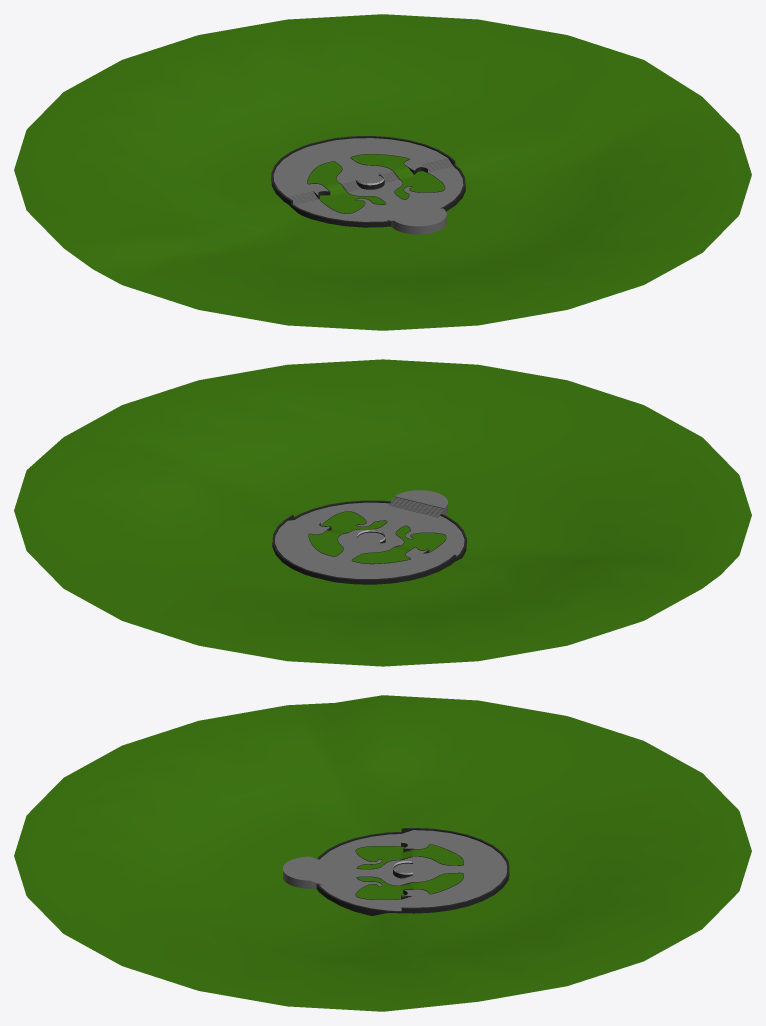
The model's file is LobbyCenter 1.fbx.
The picture shows the model from 3 angles, top to bottom: view 1: azimuth 30°, elevation 25°; view 2: azimuth 150°, elevation 25°; view 3: azimuth 270°, elevation 25°; orthographic projection.
Visible parts, largest first — view 1: Mesh3, Cylinder.003, Cylinder.001, Cube.005, Cylinder.007, Cylinder.009; view 2: Mesh3, Cylinder.003, Cylinder.001, Cube.005, Cylinder.007, Cylinder.009, Cylinder.008; view 3: Mesh3, Cylinder.003, Cylinder.001, Cube.005, Cylinder.007, Cylinder.009.
Part boxes in pixels (bbox=[...]): Mesh3: bbox=[14, 14, 751, 330]; Cylinder.003: bbox=[273, 138, 446, 198]; Cylinder.001: bbox=[294, 166, 463, 221]; Cube.005: bbox=[307, 154, 444, 213]; Cylinder.007: bbox=[271, 136, 465, 227]; Cylinder.009: bbox=[393, 208, 446, 234]; Mesh3: bbox=[14, 359, 751, 666]; Cylinder.003: bbox=[275, 521, 446, 578]; Cylinder.001: bbox=[295, 502, 464, 557]; Cube.005: bbox=[308, 511, 445, 563]; Cylinder.007: bbox=[272, 500, 466, 584]; Cylinder.009: bbox=[394, 490, 447, 515]; Cylinder.008: bbox=[388, 497, 443, 517]; Mesh3: bbox=[14, 695, 751, 1011]; Cylinder.003: bbox=[394, 830, 506, 907]; Cylinder.001: bbox=[320, 834, 401, 910]; Cube.005: bbox=[356, 844, 463, 899]; Cylinder.007: bbox=[316, 828, 509, 915]; Cylinder.009: bbox=[283, 856, 311, 888].
Size of the model in its own units: 21504 by 1018 by 21504.
